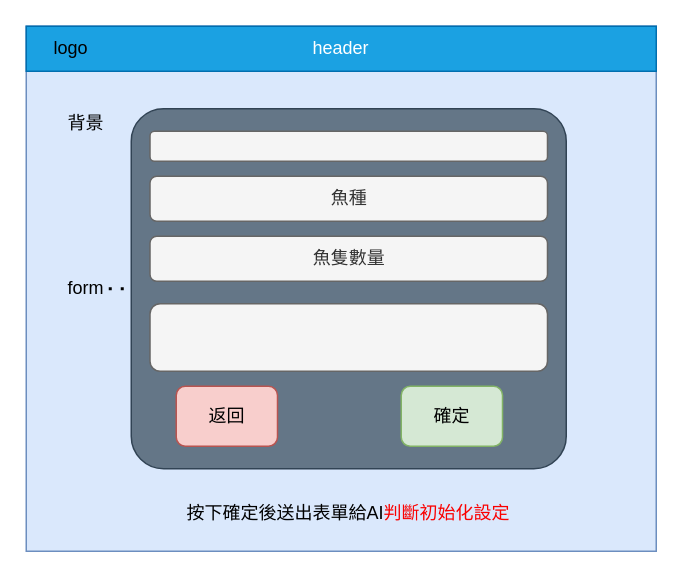
The diagram is 683 pixels wide and 578 high, and some of its shapes have lost their labels. Here are the shapes that lost their labels. From the top down, the centre of each, then its label:
At point 348,145: "水族箱名稱".
At point 348,336: "選擇AI模型(下拉式選單)".
